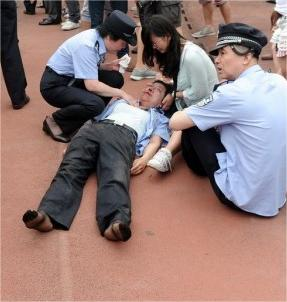bending: (175, 24, 287, 222), (30, 12, 141, 143), (142, 15, 221, 176)
down: (27, 74, 172, 247)
